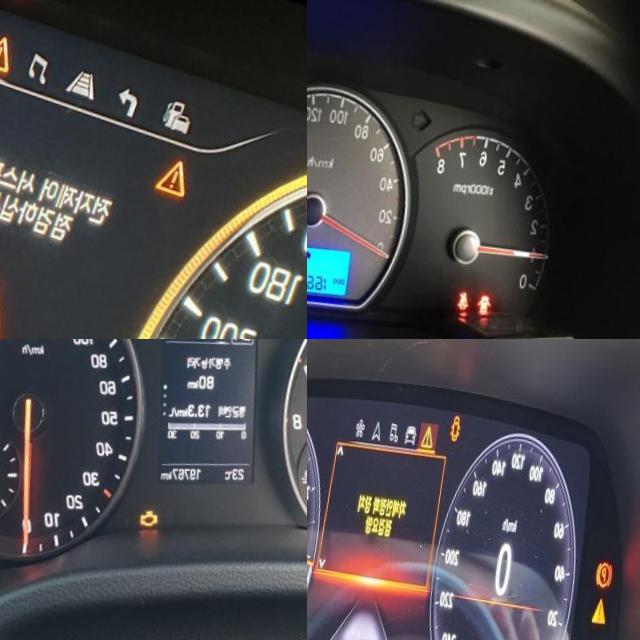Central Warning lamp: (0, 254, 48, 339), (163, 139, 206, 186), (0, 21, 26, 67), (603, 580, 622, 611)
Doors: (457, 404, 470, 432), (489, 281, 504, 300)
